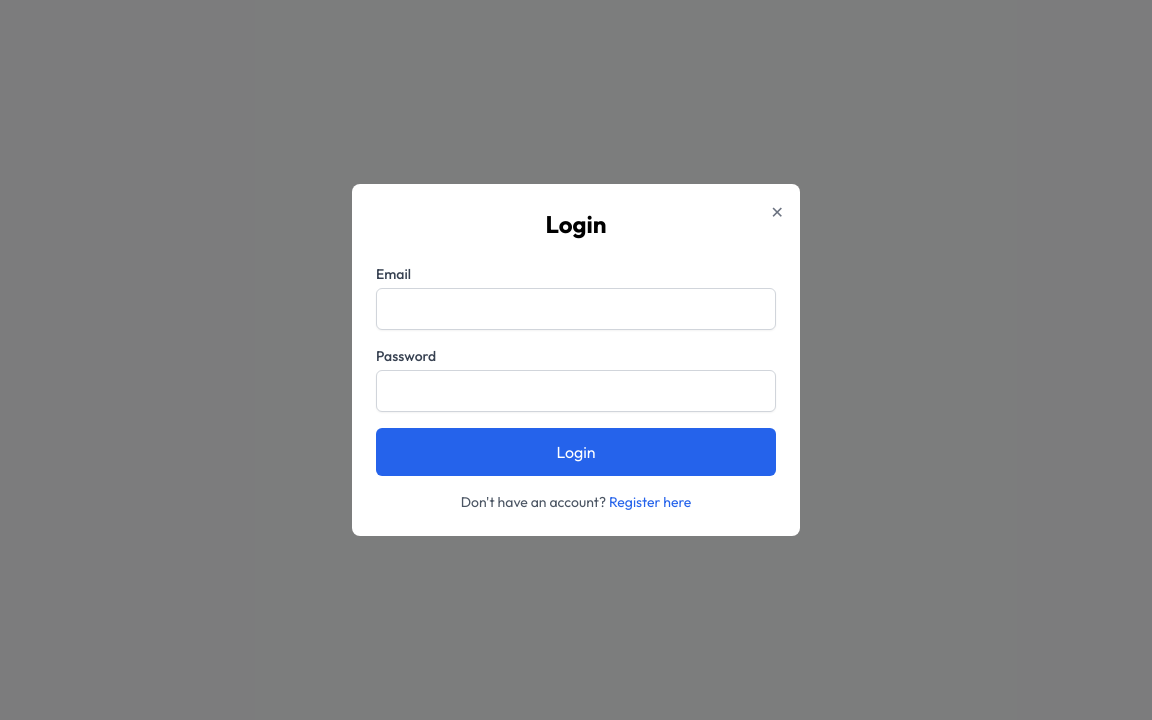
AuthModal Integration Tests › Login Form › displays login error message
Type "test@stud.noroff.no" into the field. click: x=576, y=309
box: x1=376 y1=288 x2=776 y2=330
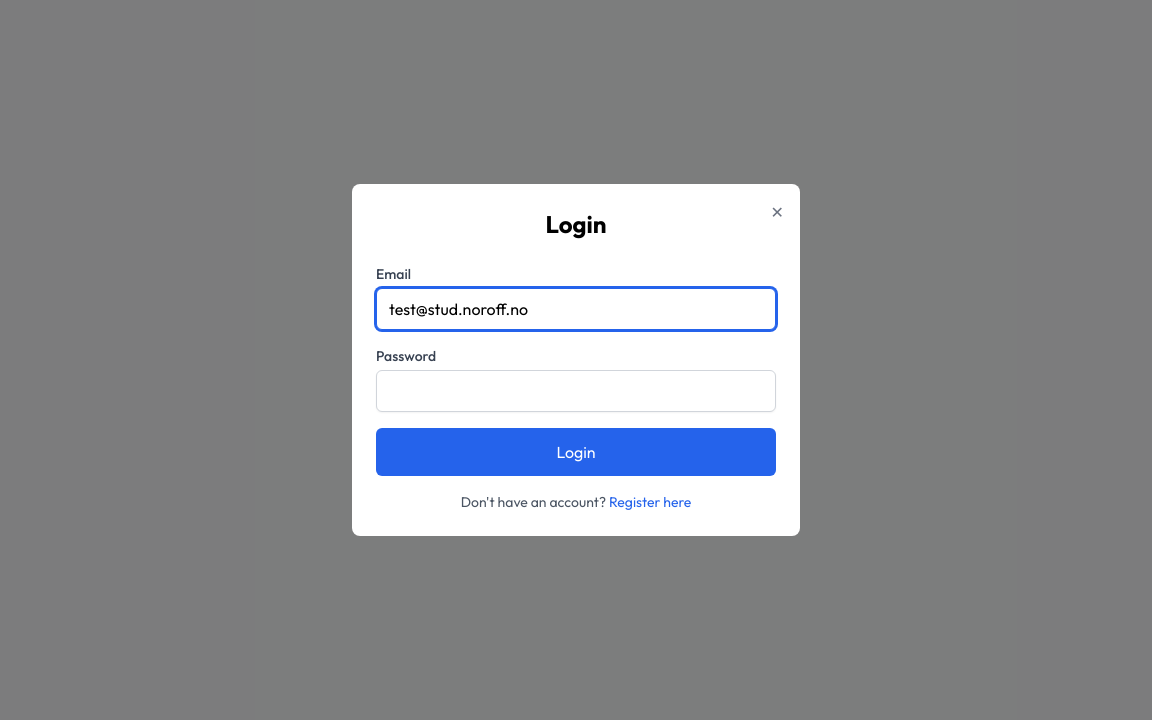
Type "wrongpassword" into the password field named "password". click: x=576, y=391
box: x1=376 y1=370 x2=776 y2=412
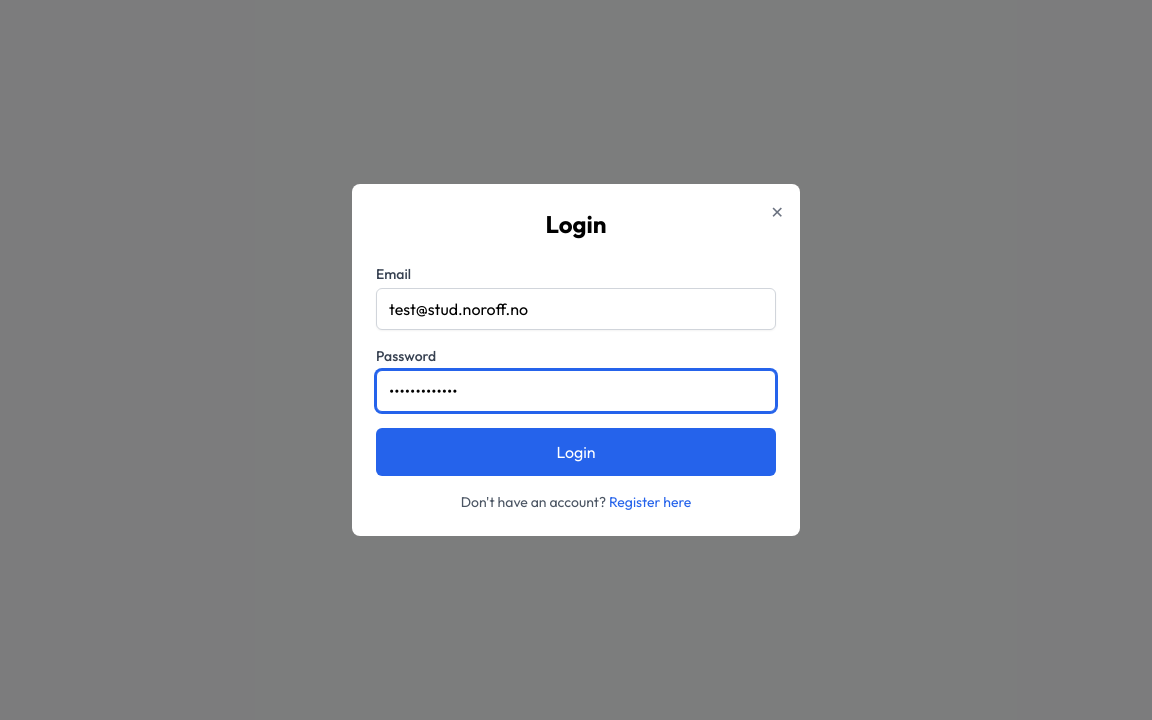
Click the button "Login". click: x=576, y=452
box: x1=376 y1=428 x2=776 y2=476
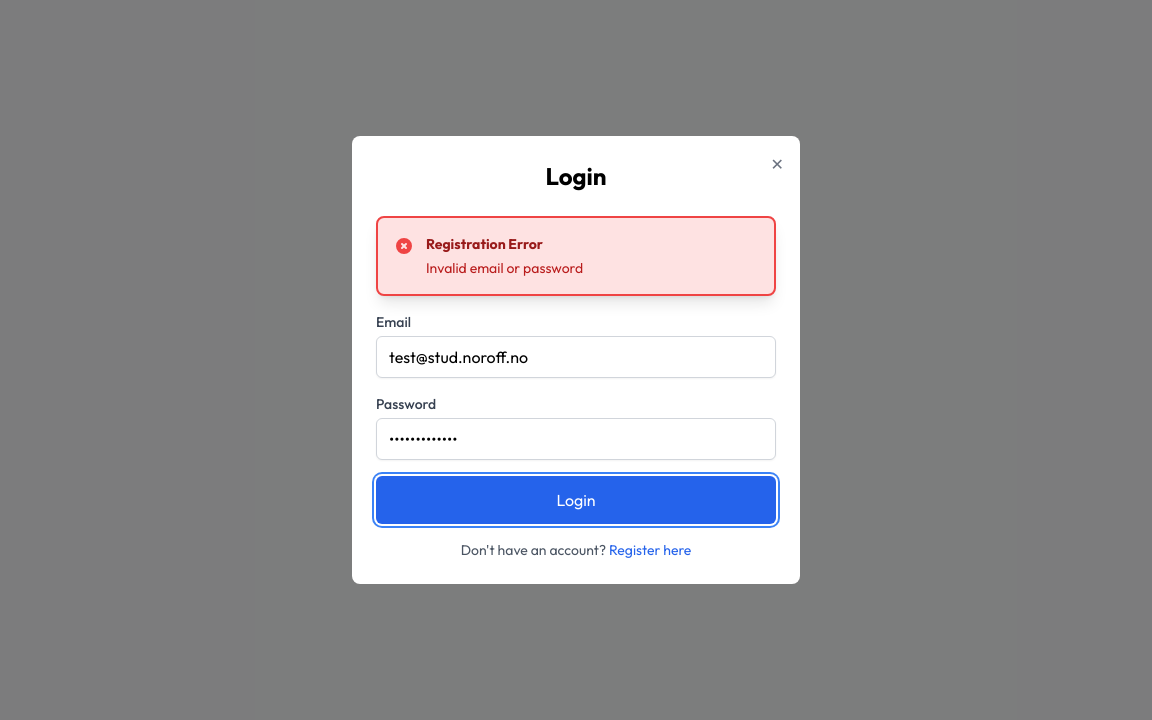
Now the text "Invalid email or password" is shown, box x1=426 y1=258 x2=583 y2=278
